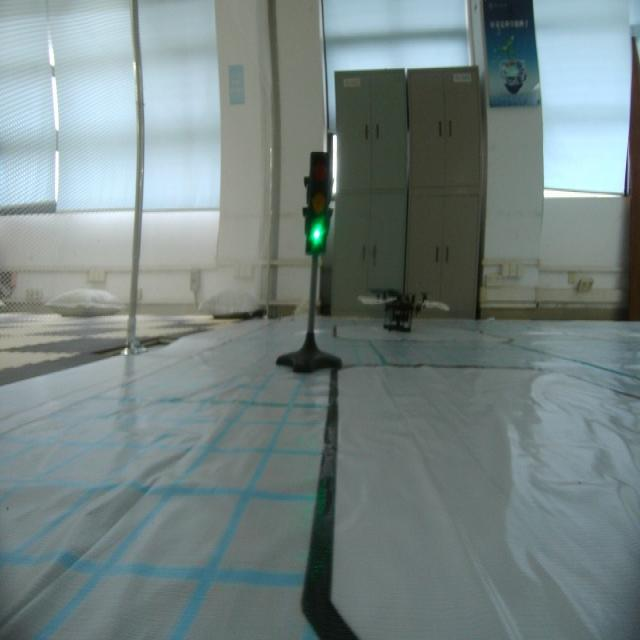green: (302, 149, 332, 261)
